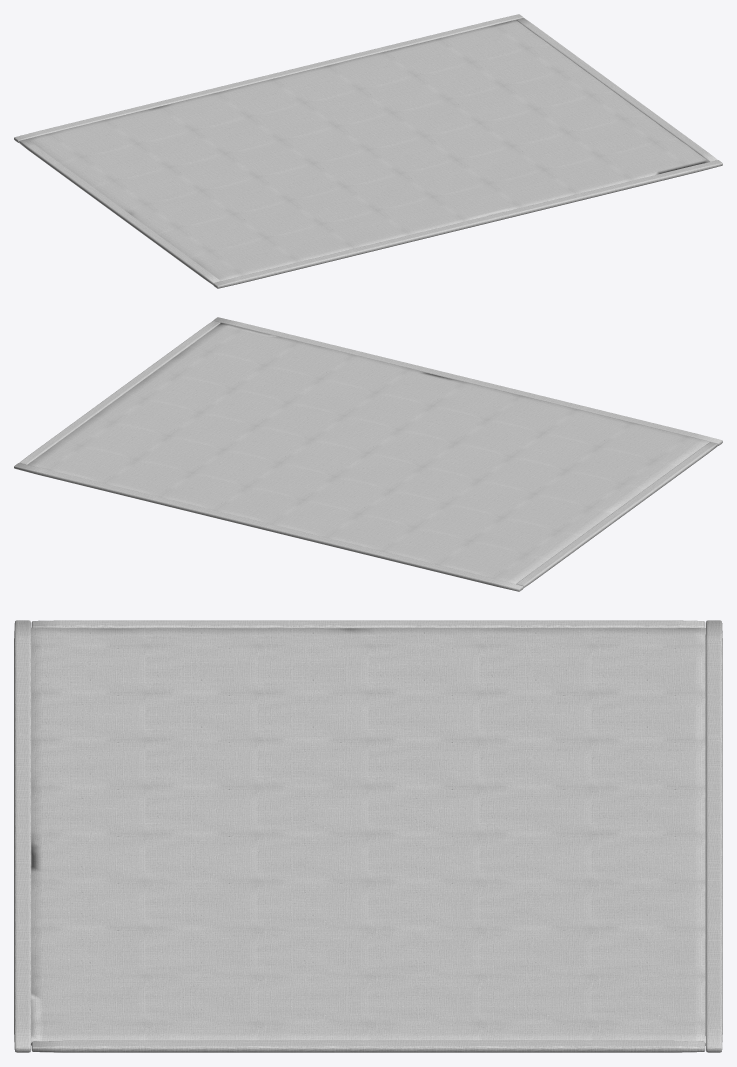
File: rug-140x200.gltf
3 views of the same model, one above another, from view 1: azimuth 30°, elevation 25°; view 2: azimuth 150°, elevation 25°; view 3: azimuth 270°, elevation 25° (orthographic). The views are drawn at different scales.
Parts seen in each view (by area): view 1: rug; view 2: rug; view 3: rug.
Part boxes in pixels (x1,y1,x2,y2): rug: (14, 14, 722, 288); rug: (14, 317, 722, 591); rug: (14, 620, 722, 1052).
Size of the model in its own units: 2 by 0.0149 by 1.4.
2 materials, 2 textured.
